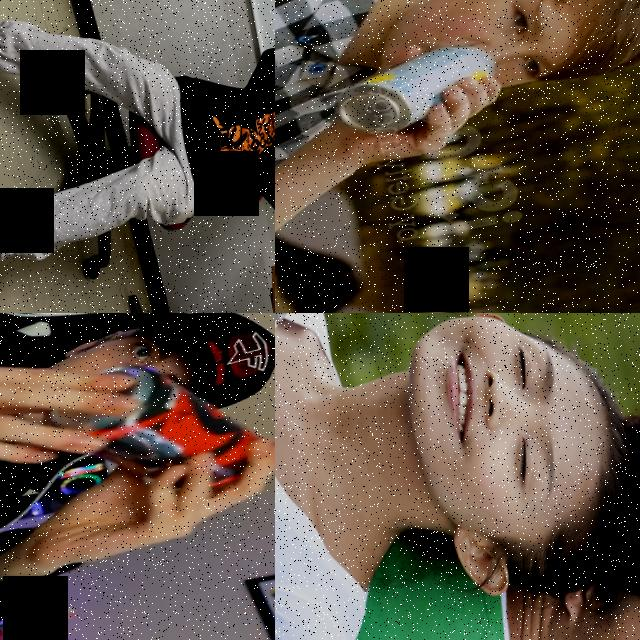can: (39, 340, 275, 524), (328, 38, 507, 144)
